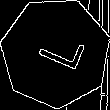L_NW: (27, 29, 85, 77)
